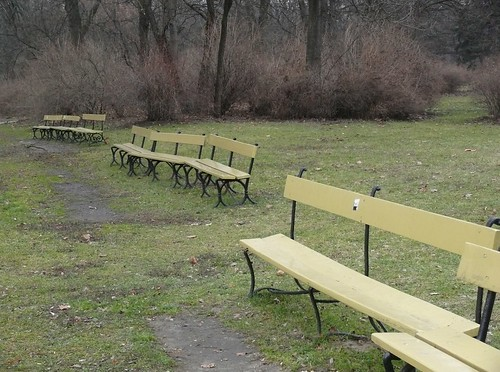bench: (239, 168, 489, 347), (183, 136, 268, 205), (146, 131, 199, 184), (108, 121, 158, 175), (74, 108, 111, 147), (51, 111, 83, 143), (32, 109, 63, 139)
grass: (2, 124, 486, 364)
vegetation: (1, 1, 487, 109)
